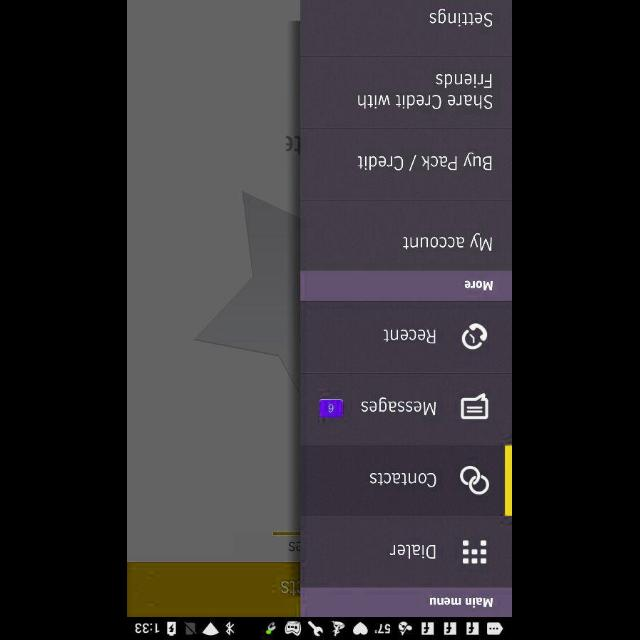icon: (460, 392, 490, 420), (463, 539, 487, 563)
image: (460, 464, 490, 494), (462, 322, 488, 350)
panel: (302, 0, 512, 616)
text: (358, 74, 494, 110), (358, 152, 492, 170), (402, 232, 493, 252), (361, 396, 437, 416), (430, 8, 494, 28), (369, 470, 436, 488), (383, 328, 437, 344), (430, 596, 494, 608), (389, 544, 436, 560), (464, 280, 494, 290)
uppertaskbar: (128, 617, 512, 639)
